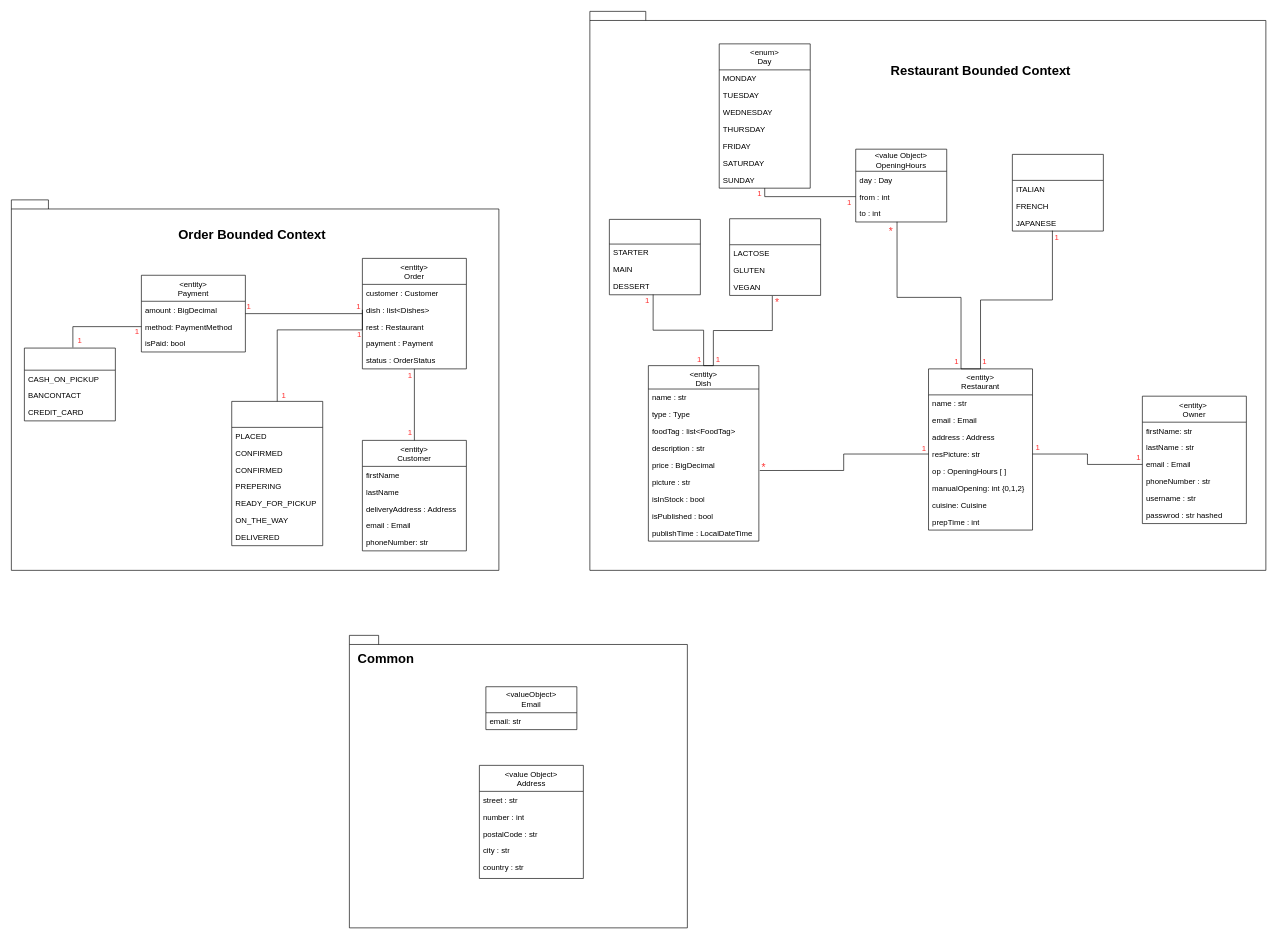
This 1277x939 diagram has some shape labels left out. The box of each missing label's shape, as (x1, y1, x2, y2) in pixels:
<enum> Cuisine: (1012, 154, 1103, 231)
<enum> FoodTag: (729, 218, 821, 295)
<enum> OrderStatus: (231, 401, 323, 546)
<enum> PaymentMethod: (24, 347, 115, 421)
<enum> Type: (609, 219, 700, 295)
